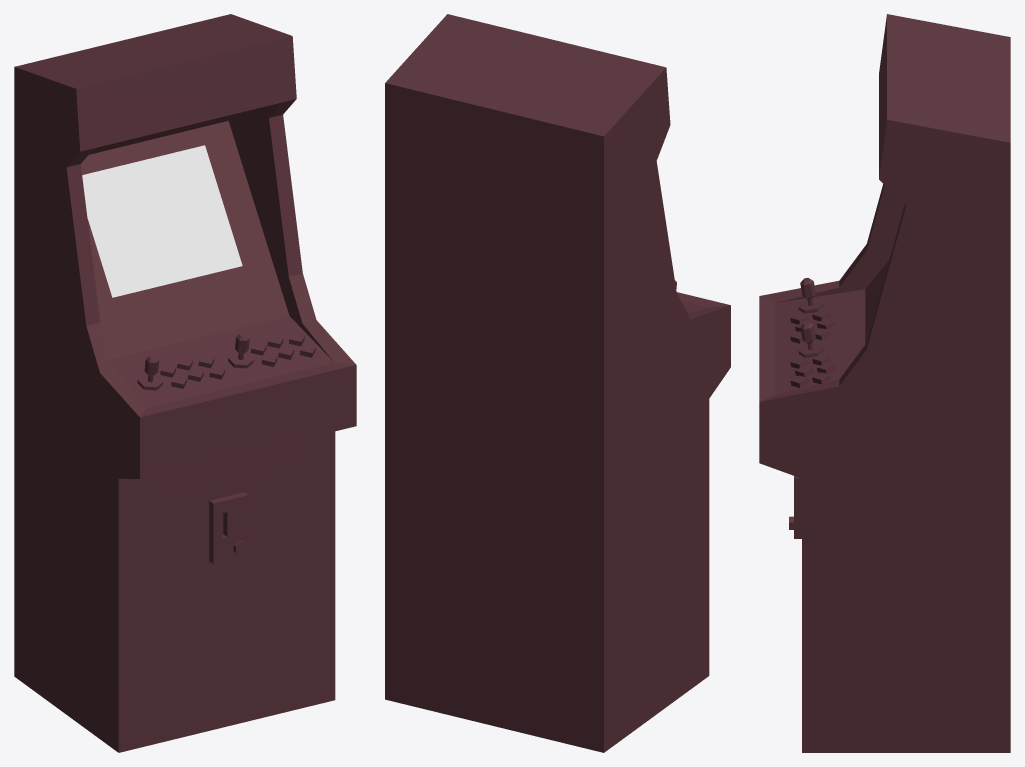
File: arcade-machine-shooter.fbx
The picture shows the model from 3 angles, left to right: view 1: azimuth 30°, elevation 25°; view 2: azimuth 150°, elevation 25°; view 3: azimuth 270°, elevation 25°; orthographic projection.
Visible parts, largest first — view 1: arcade-machine-shooter; view 2: arcade-machine-shooter; view 3: arcade-machine-shooter.
Part boxes in pixels (x1,y1,x2,y2): arcade-machine-shooter: (14,14,356,752); arcade-machine-shooter: (385,14,730,752); arcade-machine-shooter: (759,14,1010,752).
Size of the model in its own units: 0.638 by 1.78 by 0.6408.
